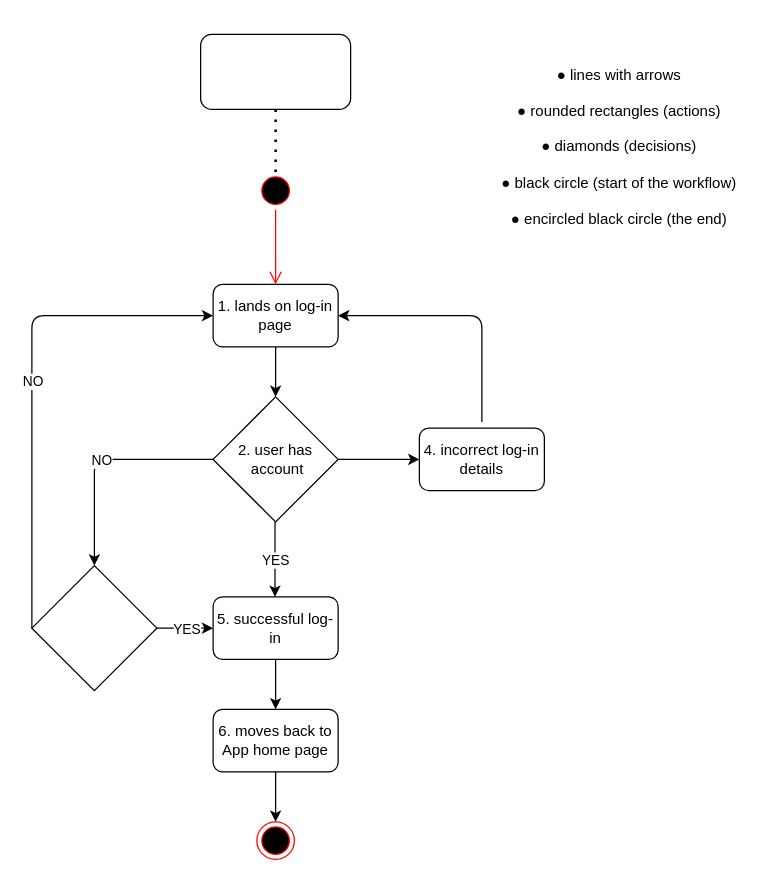
The diagram is 778 pixels wide and 881 high, and some of its shapes have lost their labels. The centre of each missing label's shape, as x and y in pixels:
"3. user chooses to create account" goes at (x=94, y=627).
"Activity Diagram" goes at (x=275, y=71).
